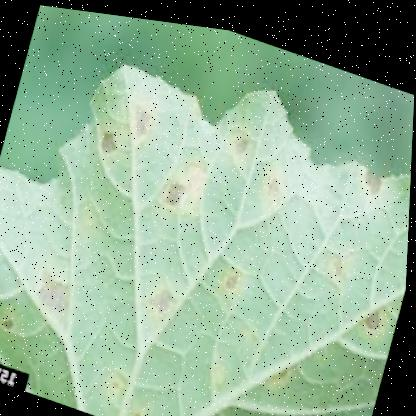Anthracnose: (126, 212, 261, 366), (70, 66, 165, 194), (135, 125, 220, 236), (8, 248, 91, 342), (298, 231, 358, 304), (345, 268, 398, 347), (251, 142, 298, 215), (214, 111, 264, 175)
